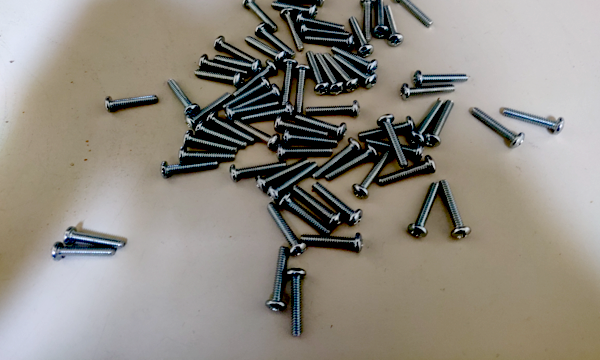longscrew: (471, 107, 523, 152), (355, 150, 398, 198), (293, 186, 341, 229), (327, 144, 376, 186), (262, 203, 302, 254), (314, 134, 361, 177), (315, 183, 363, 225), (279, 195, 327, 237), (269, 160, 319, 199), (442, 176, 471, 242), (378, 155, 435, 188), (502, 106, 562, 136), (414, 181, 445, 238), (256, 157, 310, 189), (378, 113, 408, 168), (226, 84, 282, 111), (205, 113, 255, 143), (196, 119, 246, 149), (267, 248, 288, 318), (302, 233, 363, 257), (426, 101, 458, 146), (412, 97, 444, 142), (51, 243, 112, 266), (233, 60, 274, 94), (288, 269, 308, 338), (224, 79, 270, 109), (184, 97, 230, 127), (64, 229, 125, 251), (333, 56, 376, 87), (162, 156, 217, 180), (359, 116, 416, 139), (322, 55, 358, 91), (363, 138, 425, 158), (289, 114, 347, 135), (315, 53, 343, 95), (235, 120, 277, 148), (332, 47, 378, 72), (167, 79, 198, 116), (394, 0, 436, 27), (272, 117, 330, 136), (230, 160, 285, 180), (289, 64, 310, 116), (217, 38, 259, 64), (177, 143, 234, 162), (242, 0, 279, 29), (257, 24, 294, 53), (278, 57, 298, 109), (191, 67, 243, 87), (198, 55, 249, 75), (281, 6, 303, 52), (348, 16, 373, 56), (224, 100, 279, 118), (241, 106, 295, 124), (184, 131, 234, 150), (305, 102, 362, 118), (106, 95, 163, 111), (413, 71, 469, 87), (399, 85, 455, 101), (243, 37, 283, 59), (306, 52, 325, 97), (211, 53, 259, 70), (278, 144, 332, 158), (284, 133, 338, 147), (269, 2, 319, 17), (296, 12, 346, 27), (299, 25, 349, 40), (305, 34, 355, 49), (386, 5, 401, 50), (362, 0, 377, 41), (374, 0, 390, 36), (275, 0, 325, 6)
